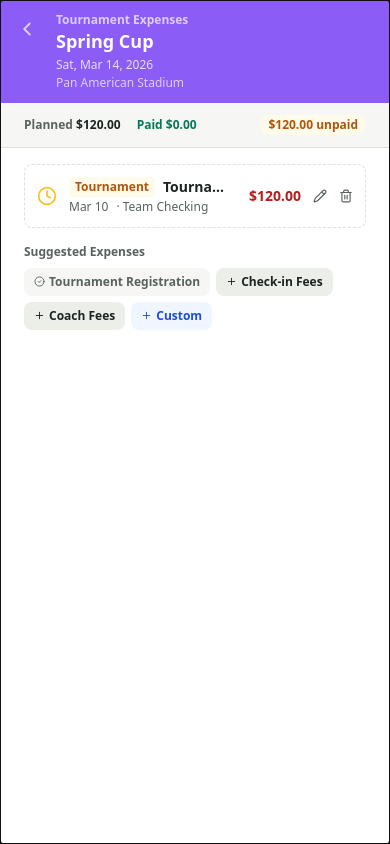
EventExpenseModal editing › keeps the form open and shows the error when the save is rejected
Click the button named "edit expense": (320, 196) [313,188,327,202]
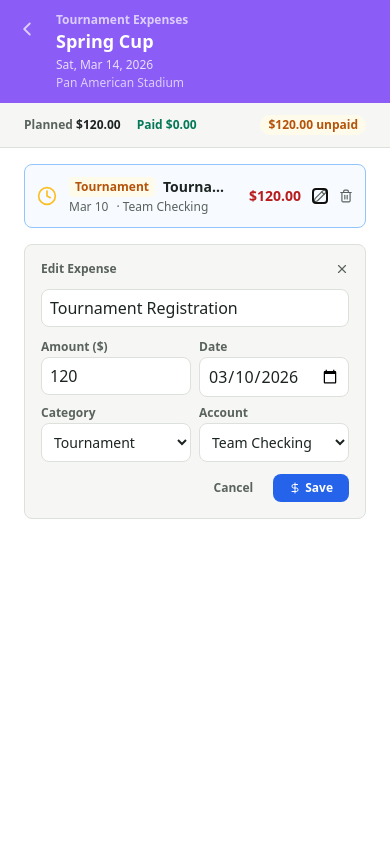
Click the button "Save": (311, 488) [273,474,349,502]
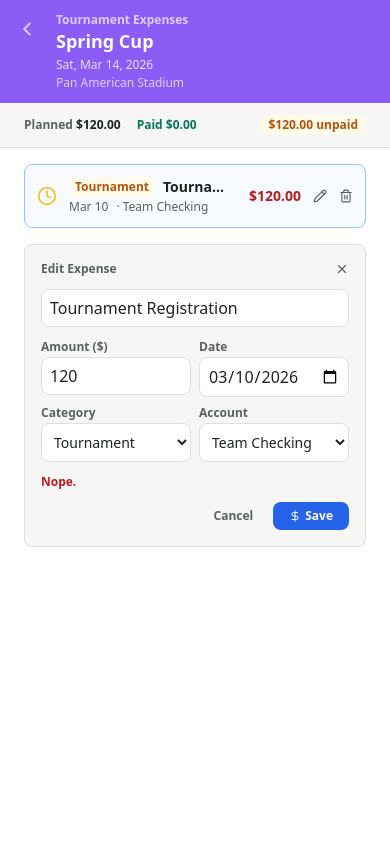
Check: the field showing "Tournament Registration" is shown, box [41,288,349,326]
Check: the text "Nope." is shown, box [41,472,76,490]
